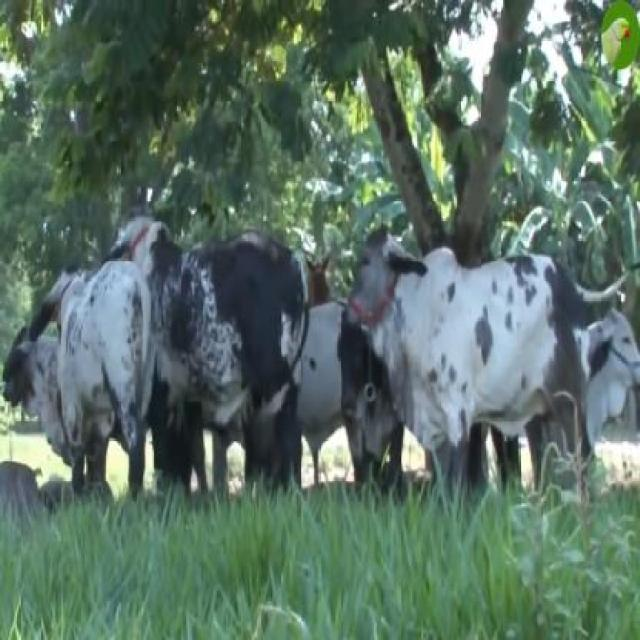Cow: (344, 225, 574, 520)
